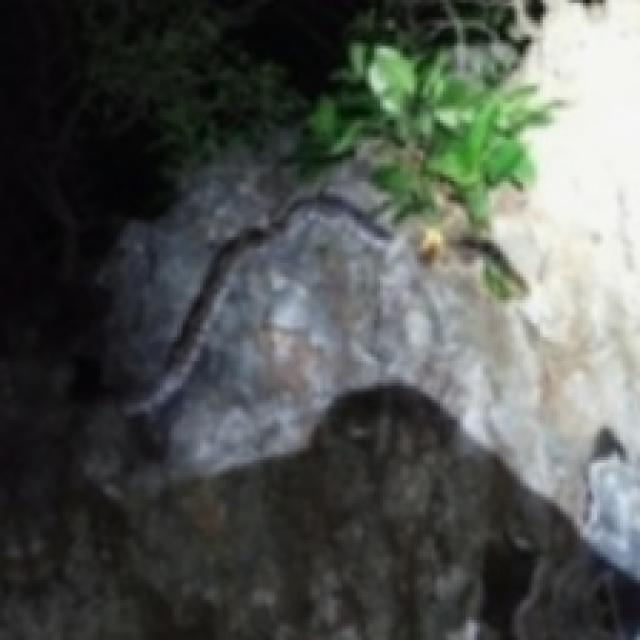reticulated python: (125, 191, 390, 417)
